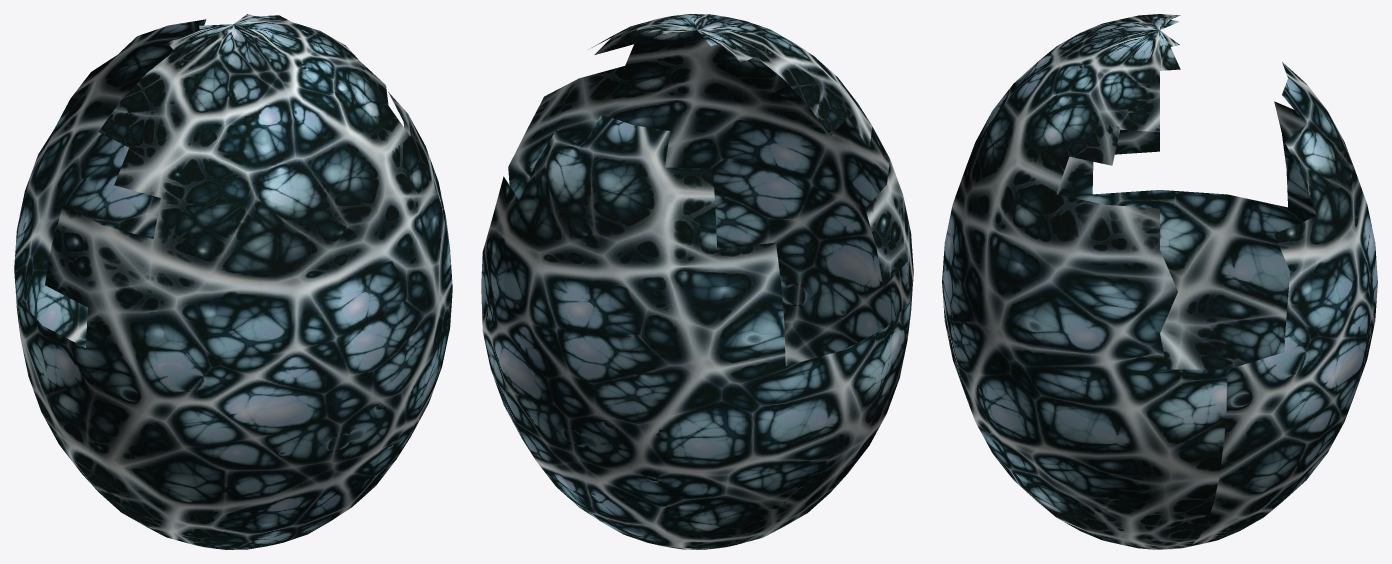
Rendered from alieneggs2.fbx.
3 views of the same model, side by side, from view 1: azimuth 30°, elevation 25°; view 2: azimuth 150°, elevation 25°; view 3: azimuth 270°, elevation 25° (orthographic).
Visible parts, largest first — view 1: pSphere2; view 2: pSphere2; view 3: pSphere2.
Boxes of the visible parts, left/top/right/bottom form: pSphere2: left=14, top=14, right=452, bottom=549; pSphere2: left=481, top=14, right=913, bottom=549; pSphere2: left=942, top=14, right=1377, bottom=549.
Size of the model in its own units: 5.76 by 7.37 by 5.78.
1 material, 1 textured.
